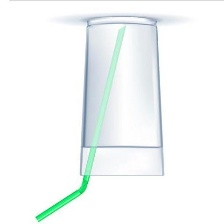drinking_straw: (32, 23, 130, 223)
glass: (74, 10, 172, 182)
